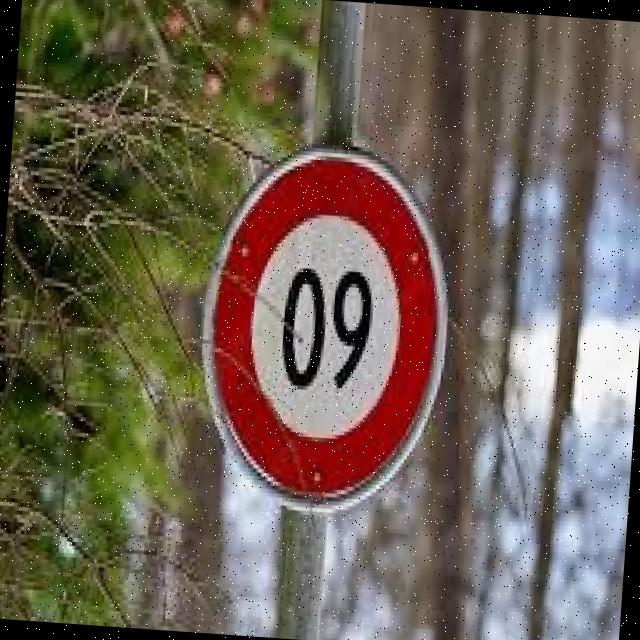speed_limit_60: (194, 141, 452, 516)
